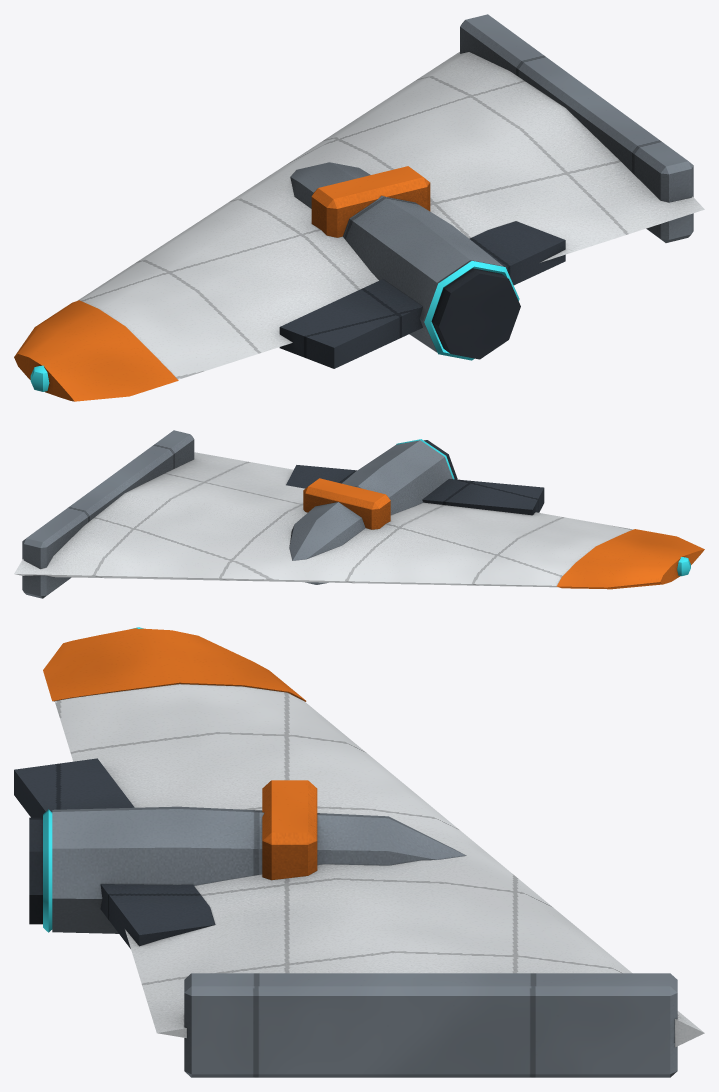
The model's file is ala_grande.fbx.
The picture shows the model from 3 angles, top to bottom: view 1: azimuth 30°, elevation 25°; view 2: azimuth 150°, elevation 25°; view 3: azimuth 270°, elevation 25°; orthographic projection. The views are drawn at different scales.
Visible parts, largest first — view 1: ala_grande, ala_grande_neon; view 2: ala_grande, ala_grande_neon; view 3: ala_grande, ala_grande_neon.
Boxes of the visible parts, left/top/right/bottom form: ala_grande: left=14, top=14, right=704, bottom=401; ala_grande_neon: left=30, top=261, right=519, bottom=391; ala_grande: left=14, top=430, right=704, bottom=598; ala_grande_neon: left=396, top=439, right=690, bottom=576; ala_grande: left=14, top=628, right=704, bottom=1077; ala_grande_neon: left=43, top=627, right=143, bottom=932.
Size of the model in its own units: 10.34 by 1.56 by 7.56.
2 materials, 2 textured.
